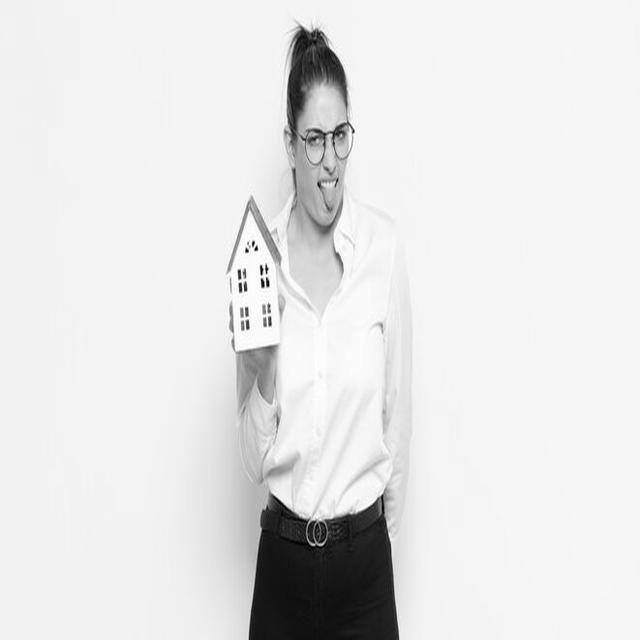Disgust: (298, 82, 352, 230)
